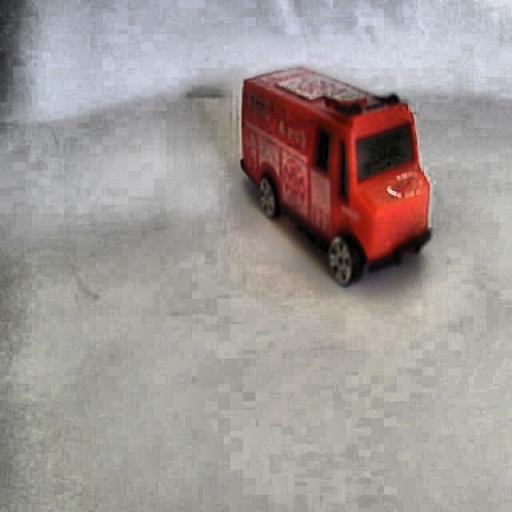fire_truck: (237, 65, 430, 286)
